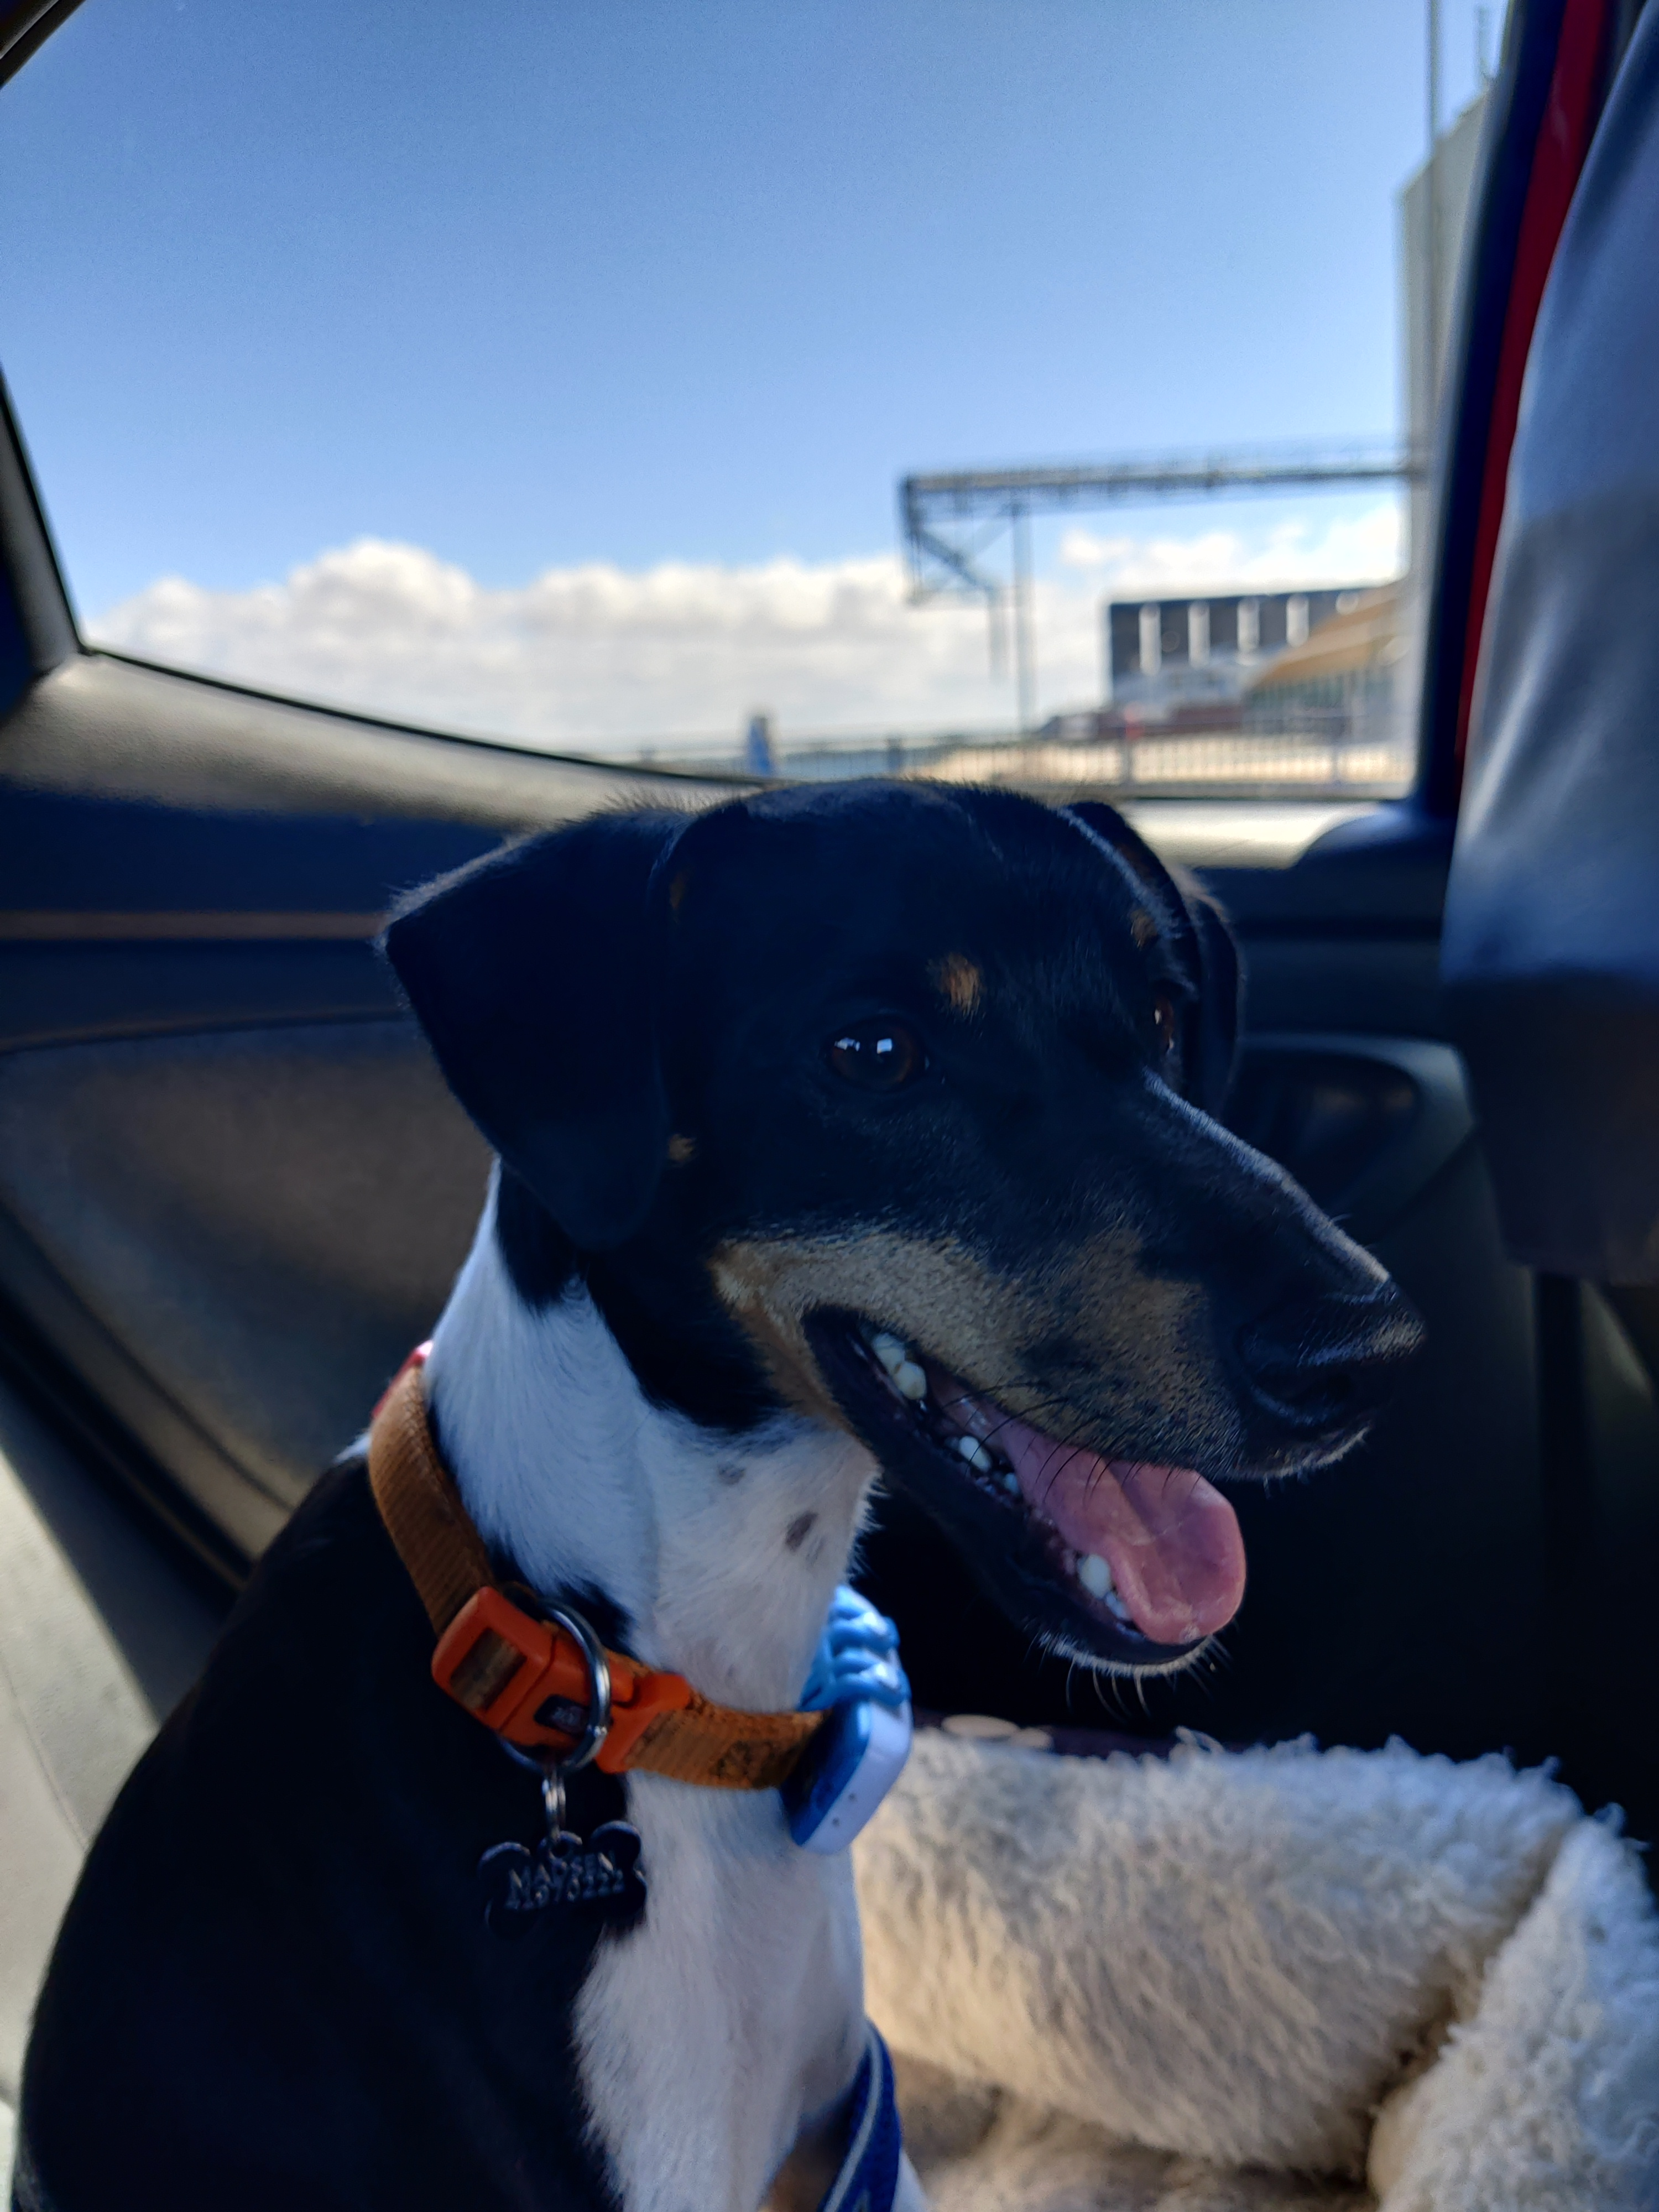Dog: (0, 765, 1443, 2212)
